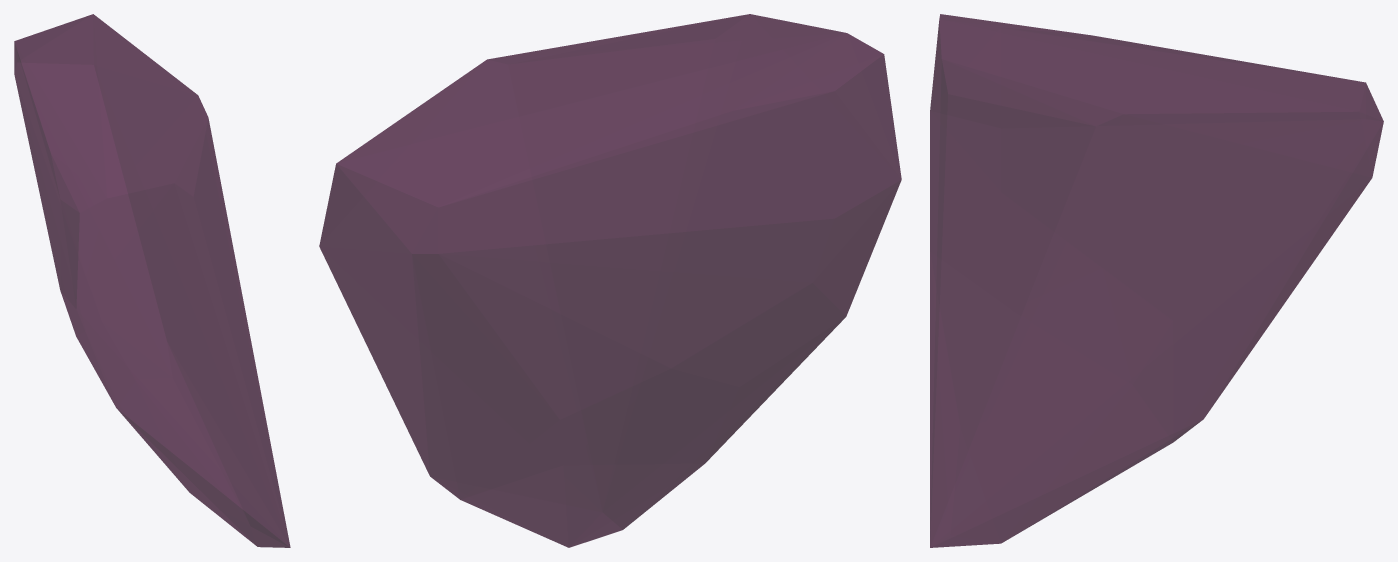
The picture shows the model from 3 angles, left to right: view 1: azimuth 30°, elevation 25°; view 2: azimuth 150°, elevation 25°; view 3: azimuth 270°, elevation 25°; orthographic projection. The views are drawn at different scales.
Parts seen in each view (by area): view 1: Shape_IndexedFaceSet.009_Shape_IndexedFaceSet.20386; view 2: Shape_IndexedFaceSet.009_Shape_IndexedFaceSet.20386; view 3: Shape_IndexedFaceSet.009_Shape_IndexedFaceSet.20386.
Part boxes in pixels (bbox=[...]): Shape_IndexedFaceSet.009_Shape_IndexedFaceSet.20386: bbox=[14, 14, 290, 547]; Shape_IndexedFaceSet.009_Shape_IndexedFaceSet.20386: bbox=[319, 14, 901, 547]; Shape_IndexedFaceSet.009_Shape_IndexedFaceSet.20386: bbox=[930, 14, 1383, 547].
Size of the model in its own units: 0.2095 by 0.3617 by 0.3423.
